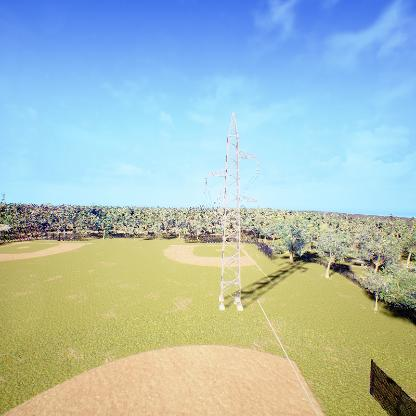tower: (201, 111, 263, 311)
